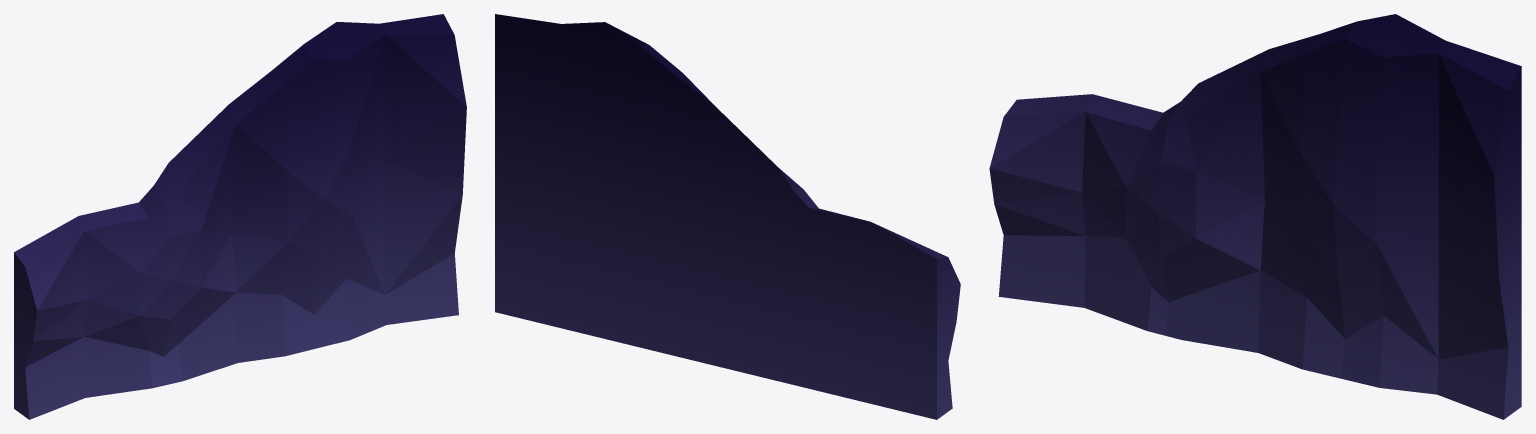
Rendered from Mod_Wall_ConnectLOW_R.fbx.
The picture shows the model from 3 angles, left to right: view 1: azimuth 30°, elevation 25°; view 2: azimuth 150°, elevation 25°; view 3: azimuth 330°, elevation 25°; orthographic projection. The views are drawn at different scales.
Parts seen in each view (by area): view 1: MOD_ConnectLOW_R; view 2: MOD_ConnectLOW_R; view 3: MOD_ConnectLOW_R.
Boxes of the visible parts, left/top/right/bottom form: MOD_ConnectLOW_R: left=14, top=14, right=466, bottom=419; MOD_ConnectLOW_R: left=495, top=14, right=960, bottom=419; MOD_ConnectLOW_R: left=989, top=14, right=1521, bottom=419.
Size of the model in its own units: 16.23 by 11.13 by 1.52.
Materials: 1 (1 with a texture image).
